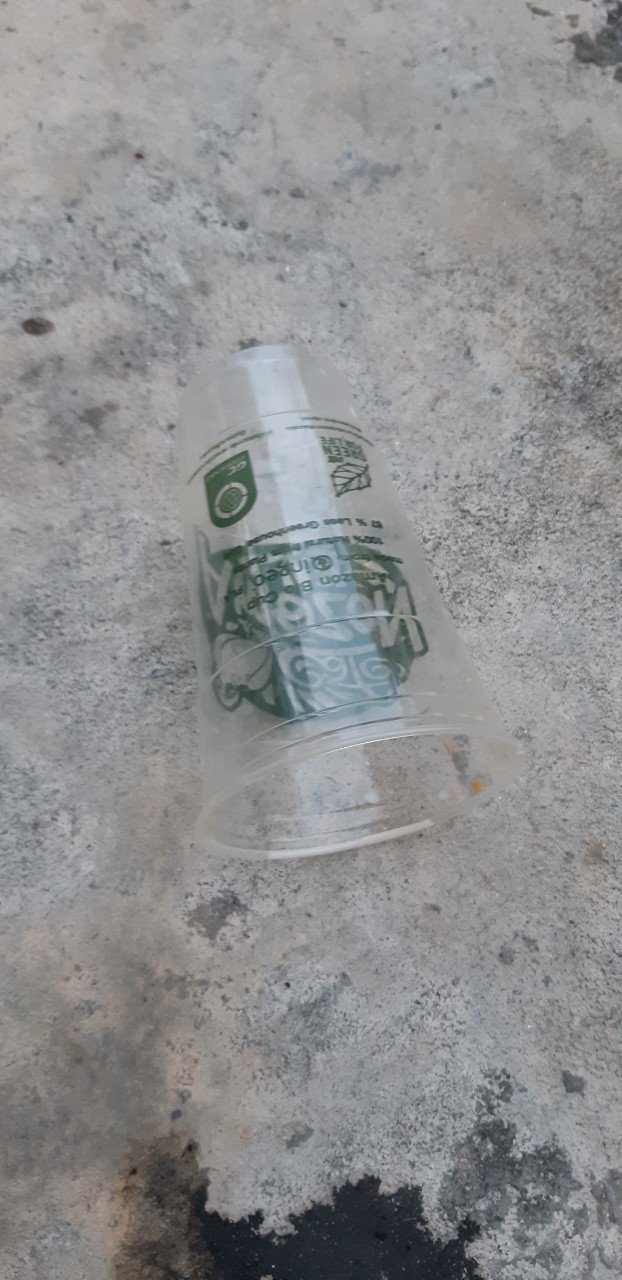PlasticCup: (170, 343, 490, 874)
